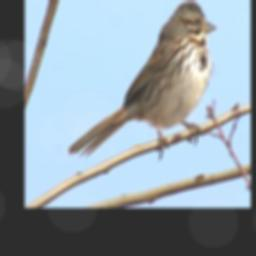Sparrow: (66, 0, 217, 160)
